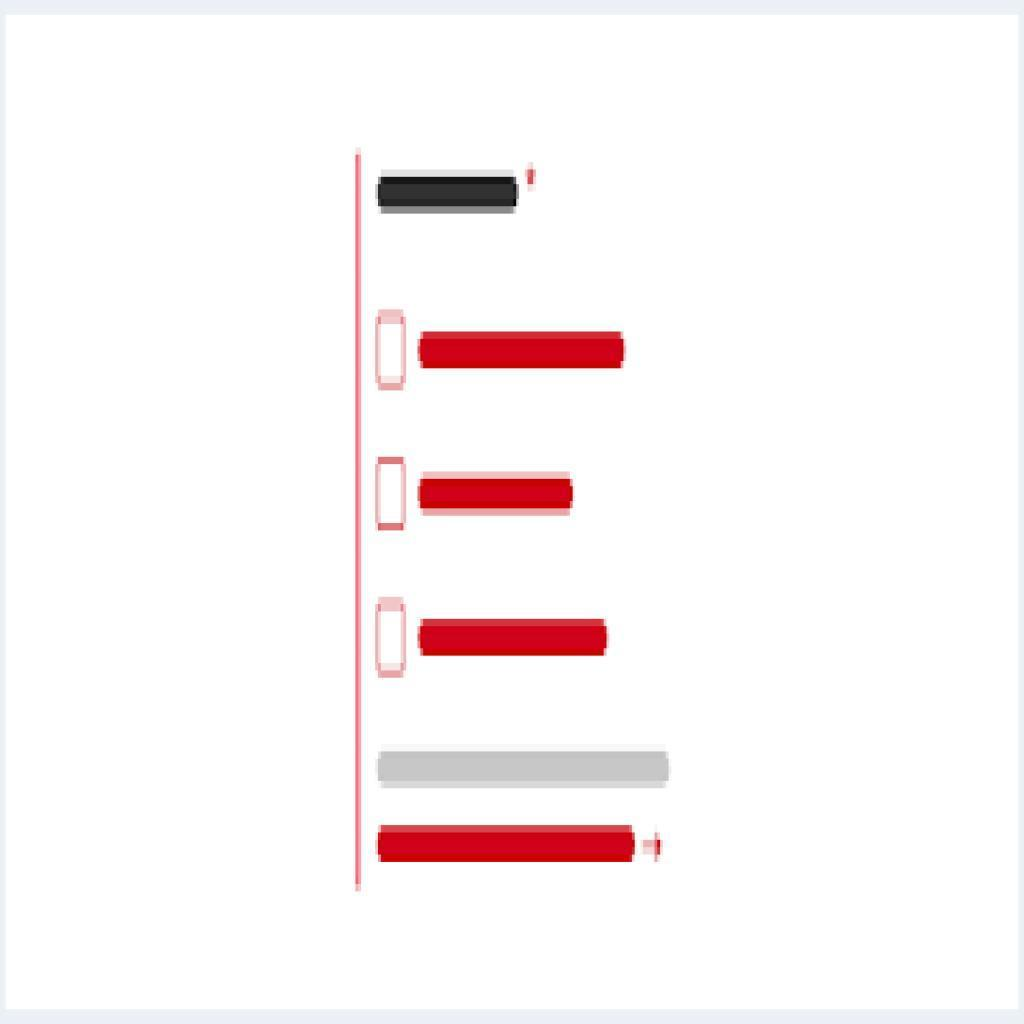checkbox: (376, 597, 411, 679), (374, 456, 410, 531), (377, 311, 408, 389)
